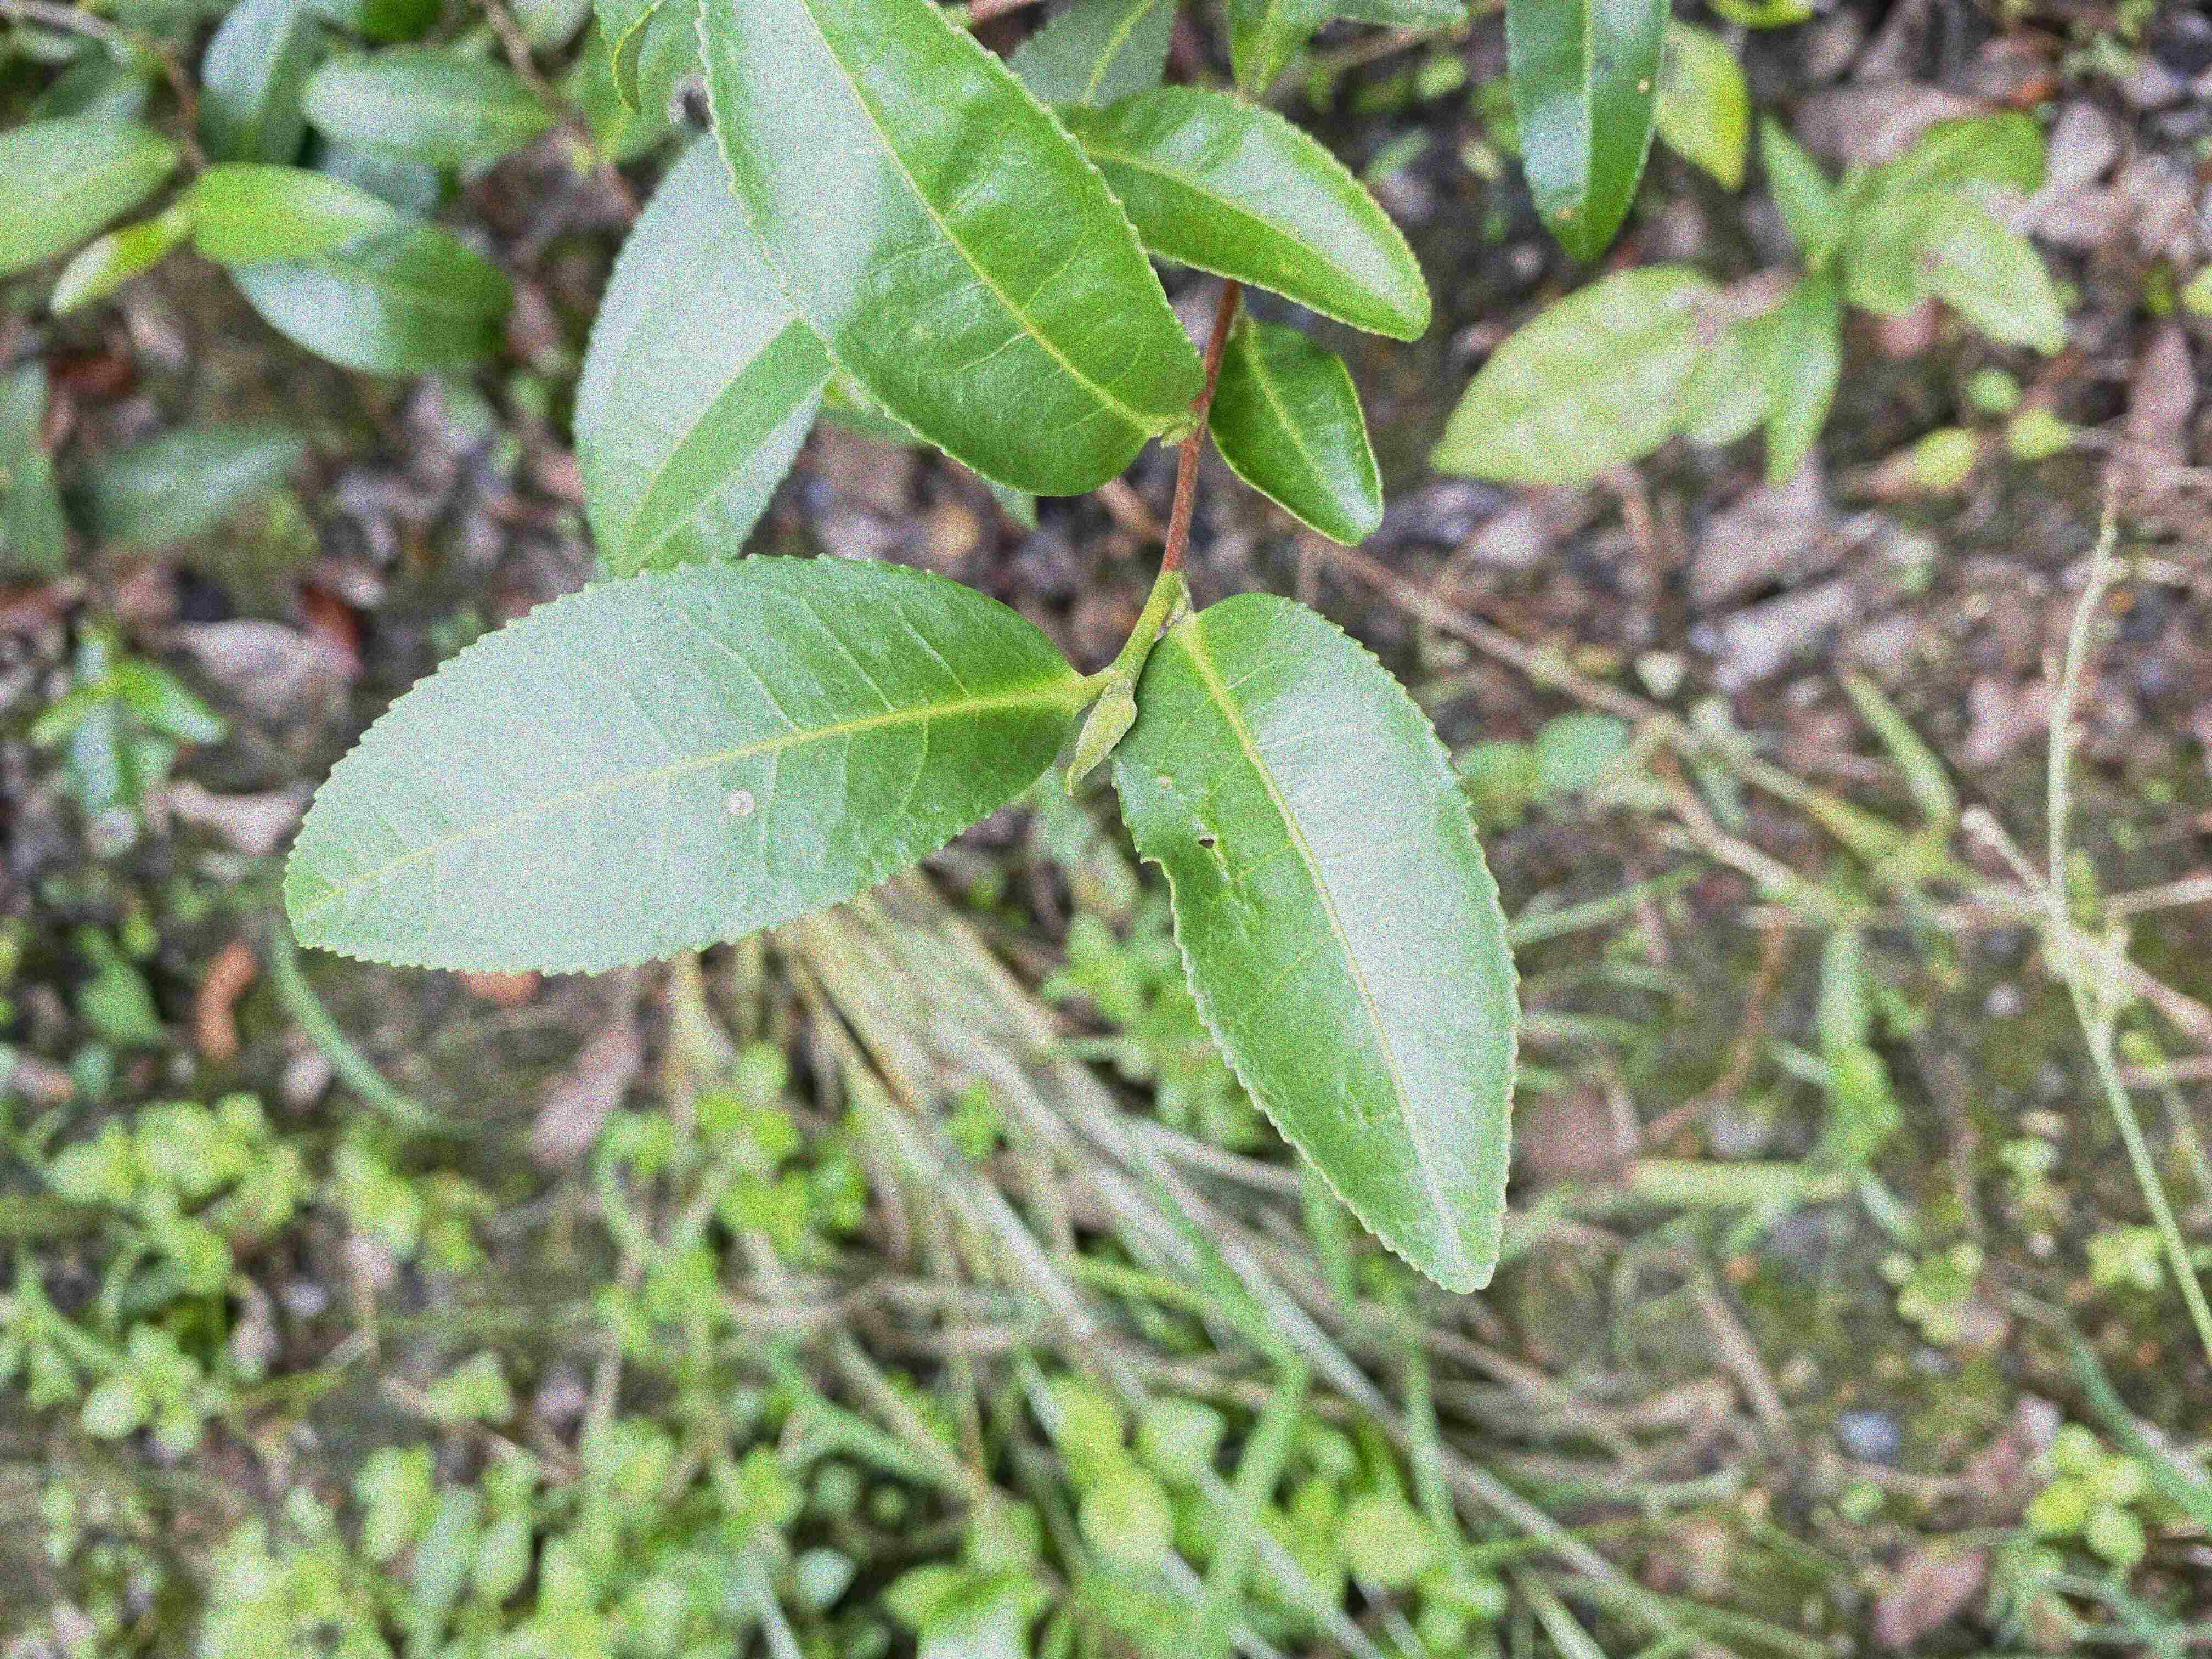healthy: (691, 3, 1204, 498), (1078, 80, 1442, 345), (587, 230, 838, 575), (1207, 312, 1388, 545)
tanju_low: (280, 552, 1076, 981), (1496, 2, 1677, 265)
